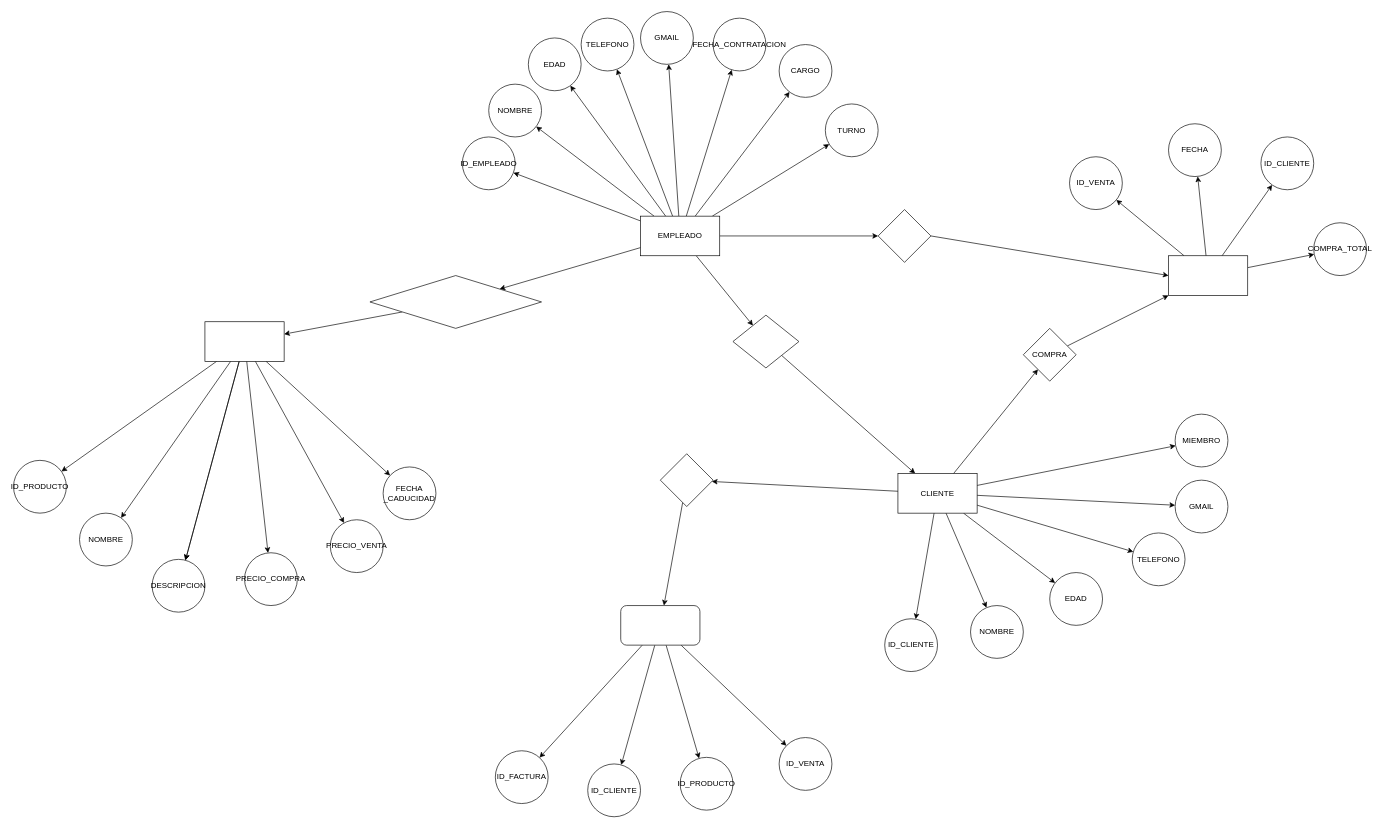
Image size: 1383x828. Some labels were removed from this diagram. The shapes that lost their labels are listed below. From the top down, each one's box as (x1, y1, x2, y2) in pixels, then its label:
(877, 209, 931, 262): regristro_venta
(1168, 255, 1248, 295): VENTA
(369, 275, 542, 328): Compra_provedores_producto_mayoreo
(204, 321, 284, 361): [PRODUCTO
(732, 314, 799, 368): atencion_cliente
(660, 453, 713, 507): COMPROBANTE
(620, 605, 700, 645): FACTURA
